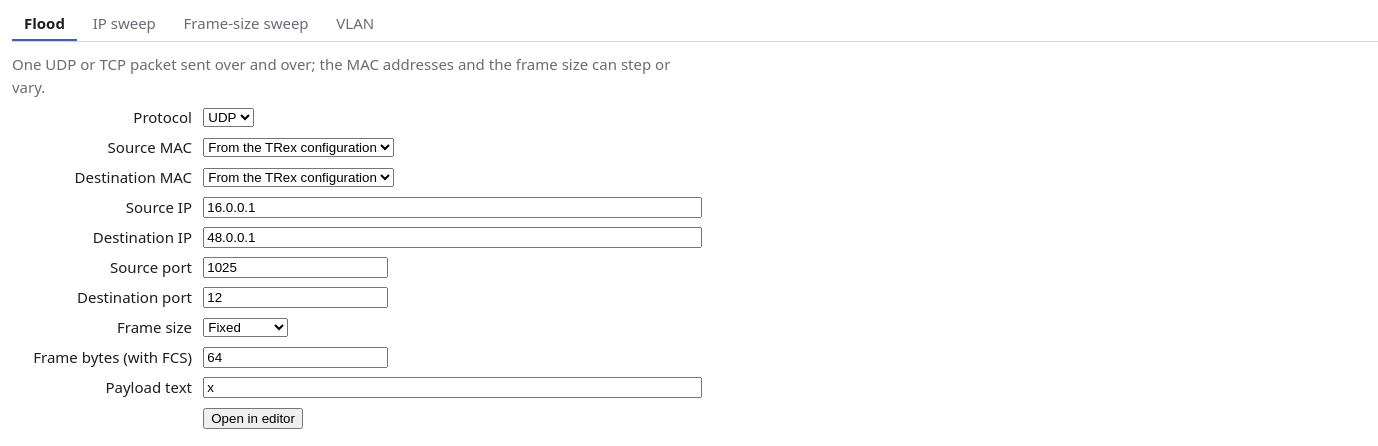
Test: Presets › a refusal that arrives on another tab marks that tab while another tab shows
The image size is (1378, 446).
Click the tab "Flood" at (44, 24), box x1=12 y1=8 x2=77 y2=41
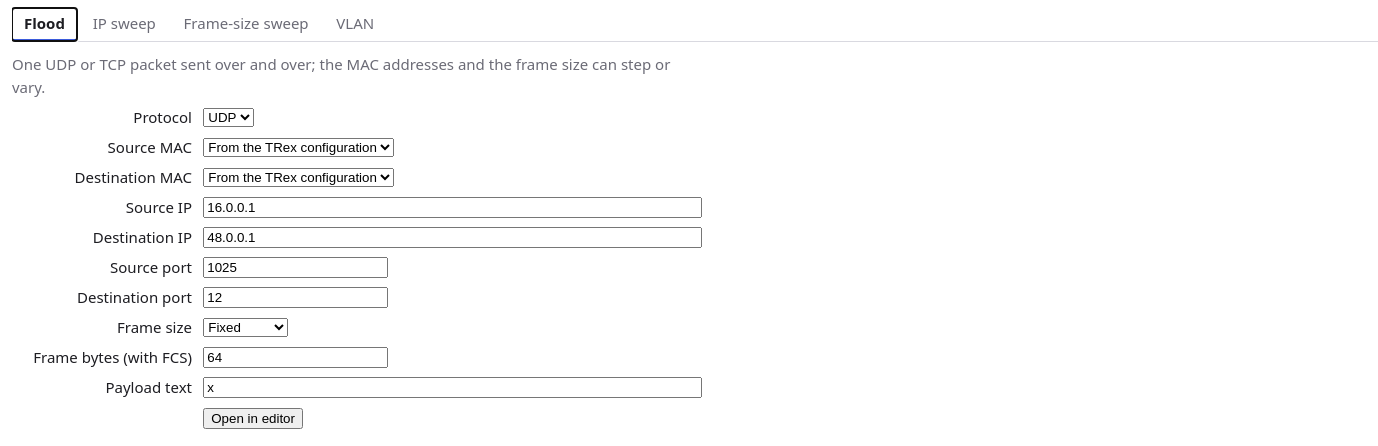
Click the button "Open in editor" at (253, 418), box x1=203 y1=408 x2=303 y2=429
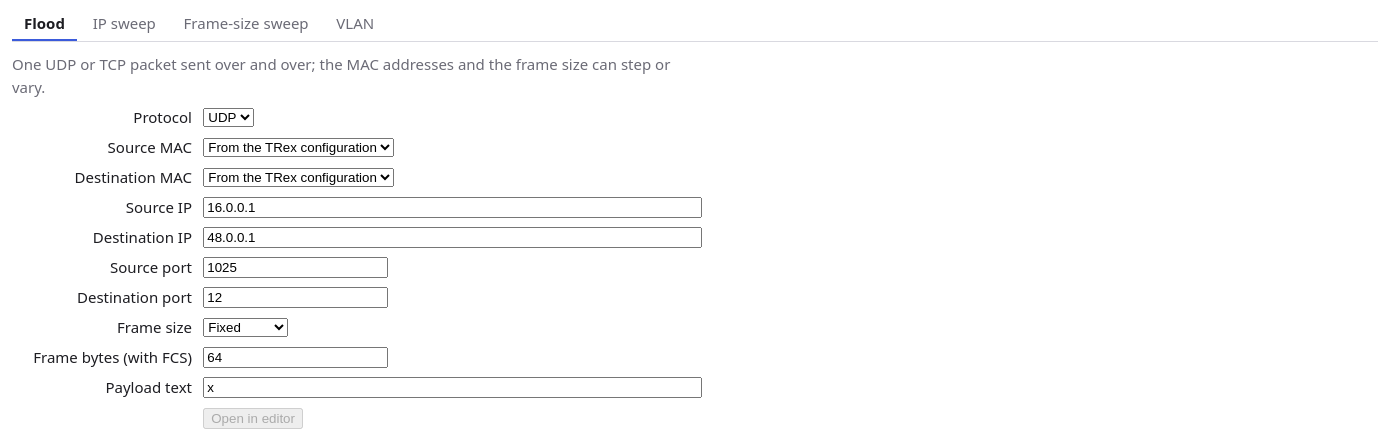
Click the tab "VLAN" at (355, 24), box x1=324 y1=8 x2=386 y2=41
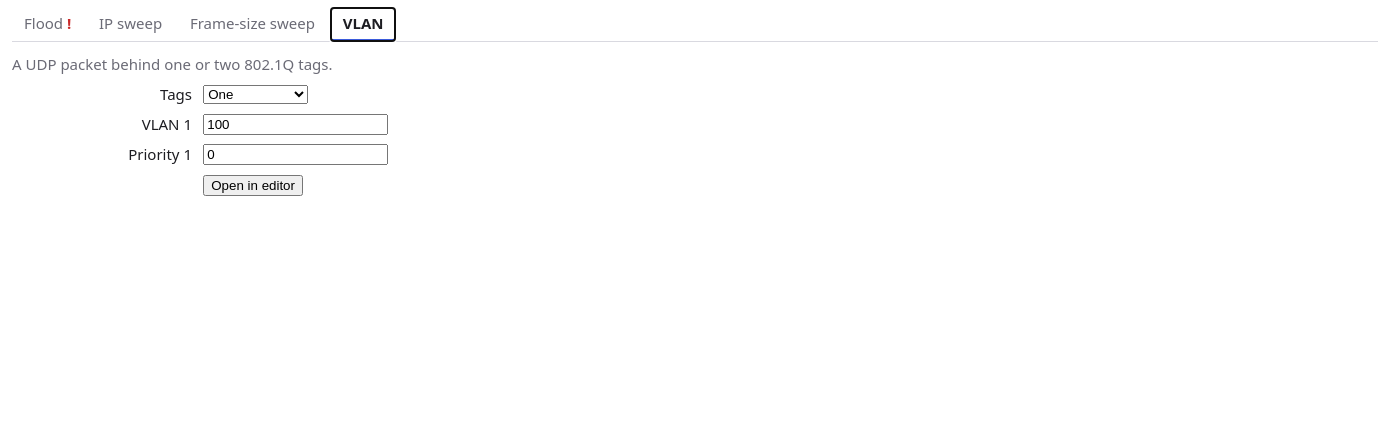
Expected: the tab named "Flood (refused)" shows "!"
Click the tab named "Flood (refused)" at (48, 24), box x1=12 y1=8 x2=83 y2=41
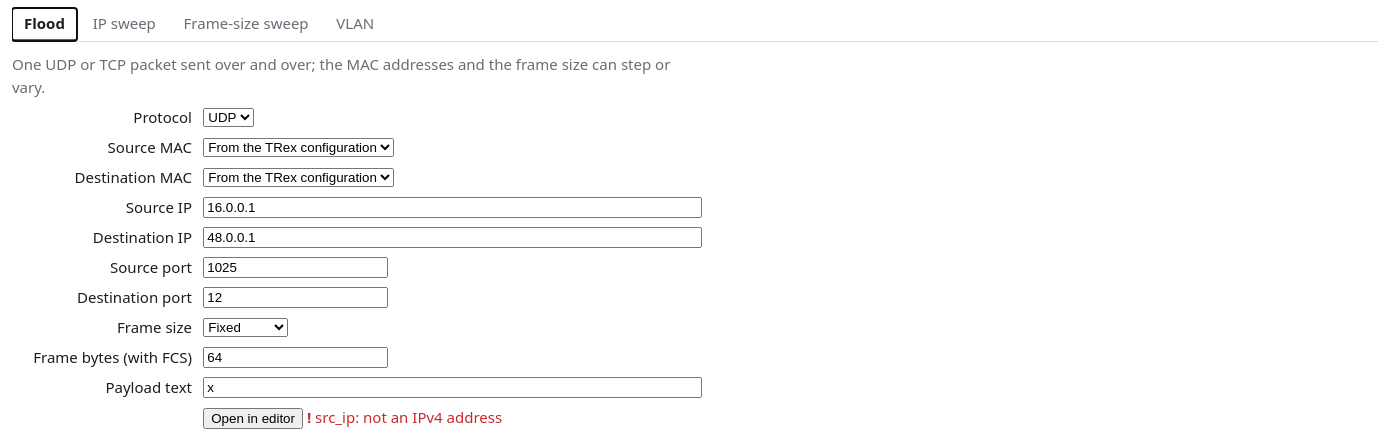
Expected: the message shows "src_ip: not an IPv4 address", x1=315 y1=407 x2=502 y2=427
